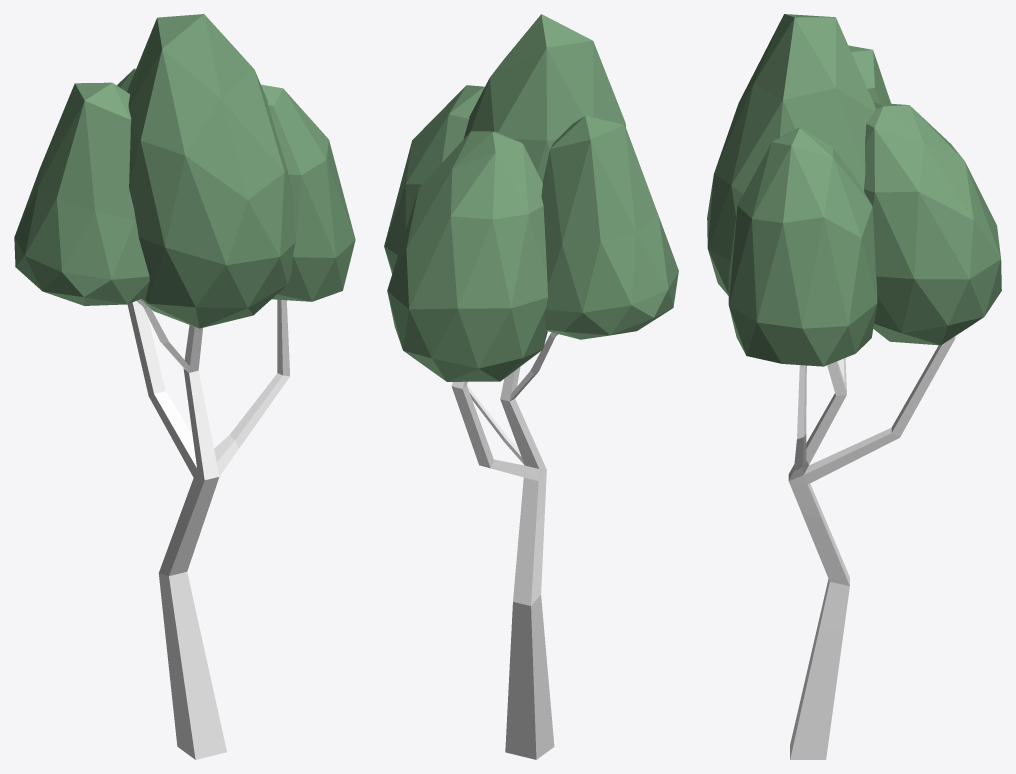
File: GrasslandsTreeType1.fbx
3 renders of one model, left to right at view 1: azimuth 30°, elevation 25°; view 2: azimuth 150°, elevation 25°; view 3: azimuth 270°, elevation 25°, orthographic.
Visible parts, largest first — view 1: GrasslandsTreeType1; view 2: GrasslandsTreeType1; view 3: GrasslandsTreeType1.
Part boxes in pixels (x1,y1,x2,y2): GrasslandsTreeType1: [14, 14, 355, 759]; GrasslandsTreeType1: [384, 14, 678, 759]; GrasslandsTreeType1: [707, 14, 1001, 759].
Size of the model in its own units: 2.97 by 7.03 by 2.57.
